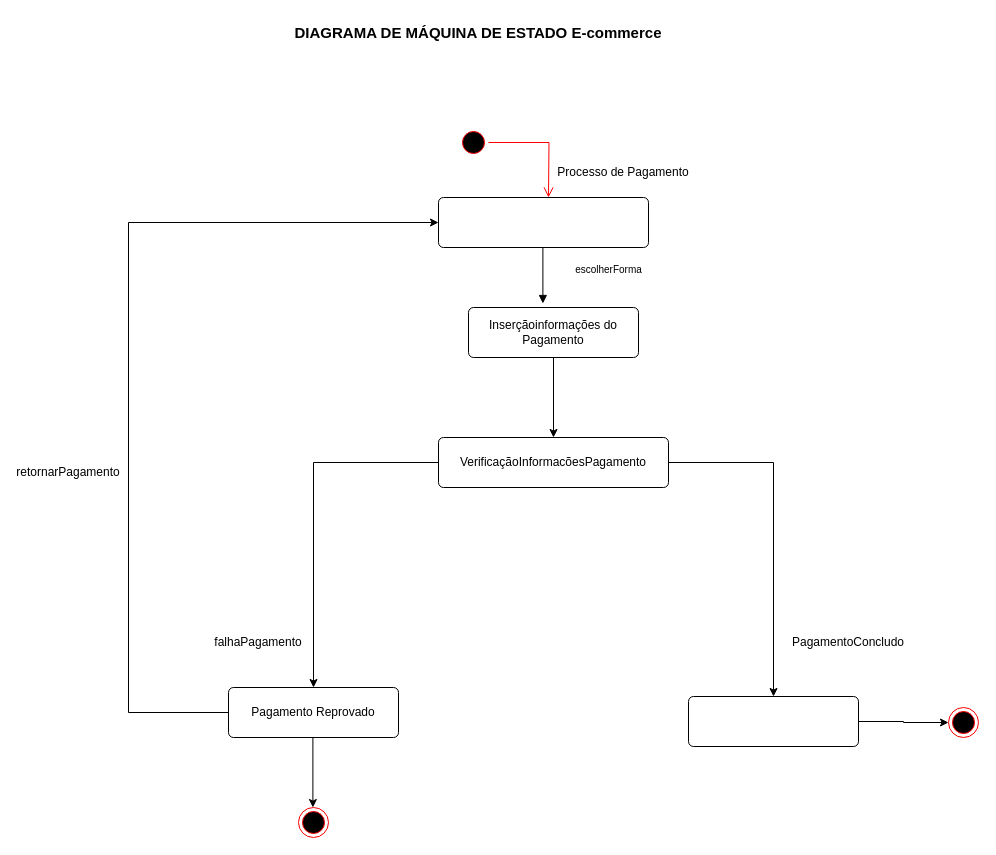
The diagram is 996 pixels wide and 855 high, and some of its shapes have lost their labels. Here are the shapes that lost their labels. From the top down, the centre of each, then its label:
[543,222]: SelecãoPagamento
[773,721]: Pagamento Aprovado
